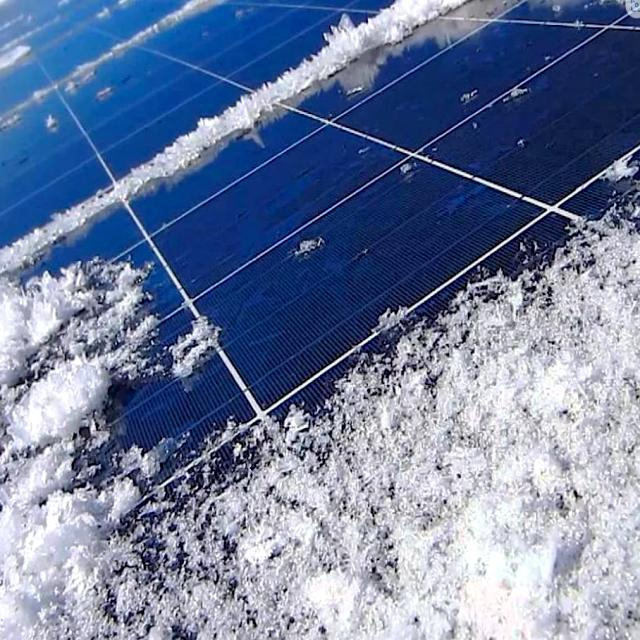panel: (190, 330, 394, 640), (440, 185, 632, 510), (0, 228, 135, 572), (276, 17, 432, 115), (98, 100, 267, 187), (1, 198, 120, 254)
